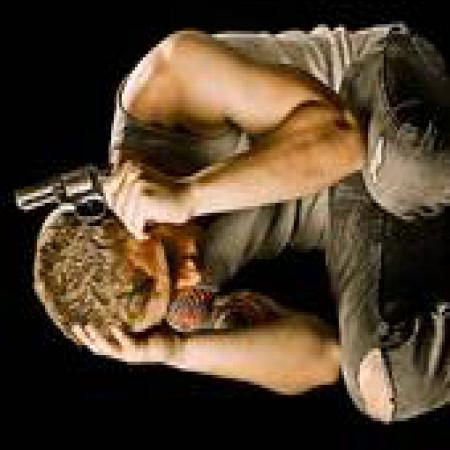Pistol: (8, 172, 143, 235)
